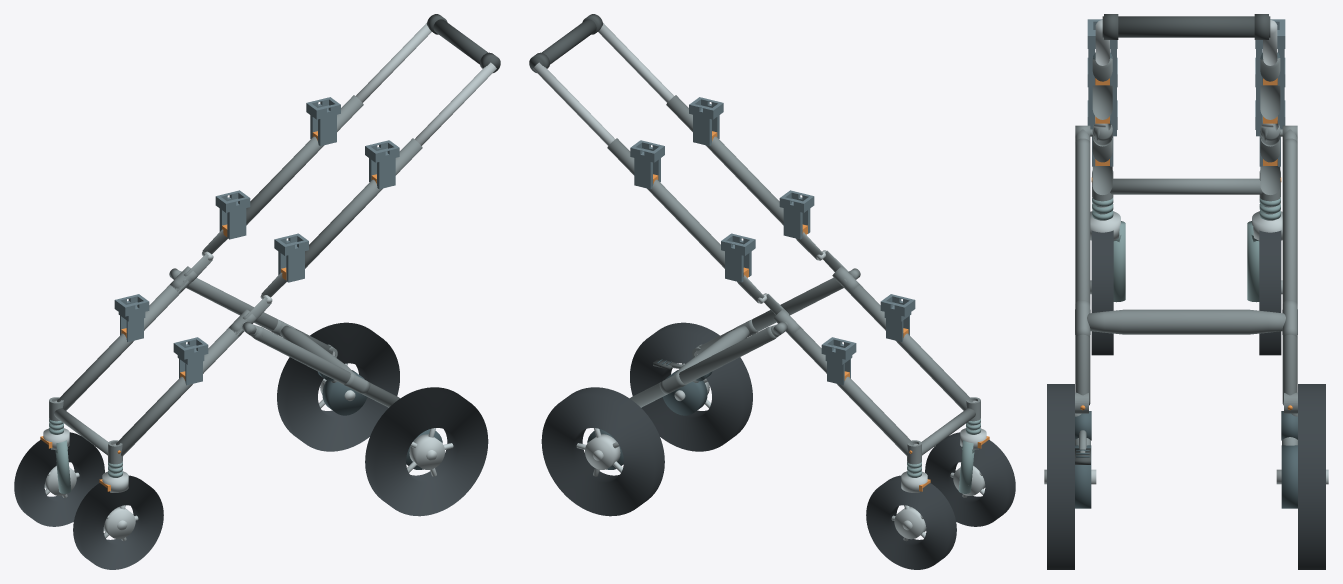
The model's file is w380_state1_wheel_M.glb.
The picture shows the model from 3 angles, left to right: view 1: azimuth 30°, elevation 25°; view 2: azimuth 150°, elevation 25°; view 3: azimuth 270°, elevation 25°; orthographic projection. The views are drawn at different scales.
Visible parts, largest first — view 1: RL_tire.009, RR_tire.009, FL_tire.009, FR_tire.009, main_lower_1, main_lower_-1, main_upper_-1, main_upper_1, V46_rear_leg_-1.002, V46_rear_leg_1.002, Universal_Cabin_Receiver_M_1, Universal_Cabin_Receiver_H_1 (+13 smaller); view 2: RR_tire.009, RL_tire.009, FR_tire.009, FL_tire.009, main_lower_-1, main_lower_1, main_upper_1, main_upper_-1, V46_rear_leg_1.002, V46_rear_leg_-1.002, Universal_Cabin_Receiver_M_-1, Universal_Cabin_Receiver_M_1 (+13 smaller); view 3: RL_tire.009, RR_tire.009, V46_rearbar.002, V46_rear_leg_1.002, V46_rear_leg_-1.002, round_handle.010, front_fixed_round_tube, FL_tire.009, FR_tire.009, RR_brake_backplate.009, main_upper_-1, main_upper_1 (+19 smaller).
Boxes of the visible parts, x1=… form: RL_tire.009: x1=365, y1=387, x2=488, y2=516; RR_tire.009: x1=277, y1=322, x2=399, y2=451; FL_tire.009: x1=73, y1=475, x2=163, y2=569; FR_tire.009: x1=14, y1=432, x2=104, y2=526; main_lower_1: x1=57, y1=280, x2=188, y2=410; main_lower_-1: x1=116, y1=328, x2=242, y2=456; main_upper_-1: x1=305, y1=138, x2=422, y2=268; main_upper_1: x1=246, y1=95, x2=363, y2=225; V46_rear_leg_-1.002: x1=252, y1=326, x2=400, y2=407; V46_rear_leg_1.002: x1=186, y1=278, x2=333, y2=354; Universal_Cabin_Receiver_M_1: x1=215, y1=190, x2=250, y2=239; Universal_Cabin_Receiver_H_1: x1=306, y1=97, x2=340, y2=146; RR_tire.009: x1=541, y1=387, x2=664, y2=516; RL_tire.009: x1=630, y1=322, x2=752, y2=451; FR_tire.009: x1=866, y1=475, x2=956, y2=569; FL_tire.009: x1=925, y1=432, x2=1015, y2=526; main_lower_-1: x1=841, y1=280, x2=972, y2=410; main_lower_1: x1=787, y1=328, x2=913, y2=456; main_upper_1: x1=607, y1=138, x2=724, y2=268; main_upper_-1: x1=666, y1=95, x2=783, y2=225; V46_rear_leg_1.002: x1=629, y1=326, x2=777, y2=407; V46_rear_leg_-1.002: x1=696, y1=277, x2=843, y2=354; Universal_Cabin_Receiver_M_-1: x1=779, y1=190, x2=814, y2=239; Universal_Cabin_Receiver_M_1: x1=721, y1=233, x2=755, y2=282; RL_tire.009: x1=1047, y1=384, x2=1074, y2=569; RR_tire.009: x1=1298, y1=384, x2=1325, y2=569; V46_rearbar.002: x1=1087, y1=309, x2=1285, y2=334; V46_rear_leg_1.002: x1=1282, y1=138, x2=1297, y2=405; V46_rear_leg_-1.002: x1=1075, y1=138, x2=1090, y2=405; round_handle.010: x1=1102, y1=16, x2=1270, y2=37; front_fixed_round_tube: x1=1110, y1=178, x2=1262, y2=194; FL_tire.009: x1=1091, y1=230, x2=1113, y2=355; FR_tire.009: x1=1259, y1=230, x2=1281, y2=355; RR_brake_backplate.009: x1=1281, y1=445, x2=1297, y2=508; main_upper_-1: x1=1092, y1=57, x2=1112, y2=119; main_upper_1: x1=1260, y1=57, x2=1280, y2=119.
Bounding box in the file's own units: 1.12 × 1.07 × 0.458.
